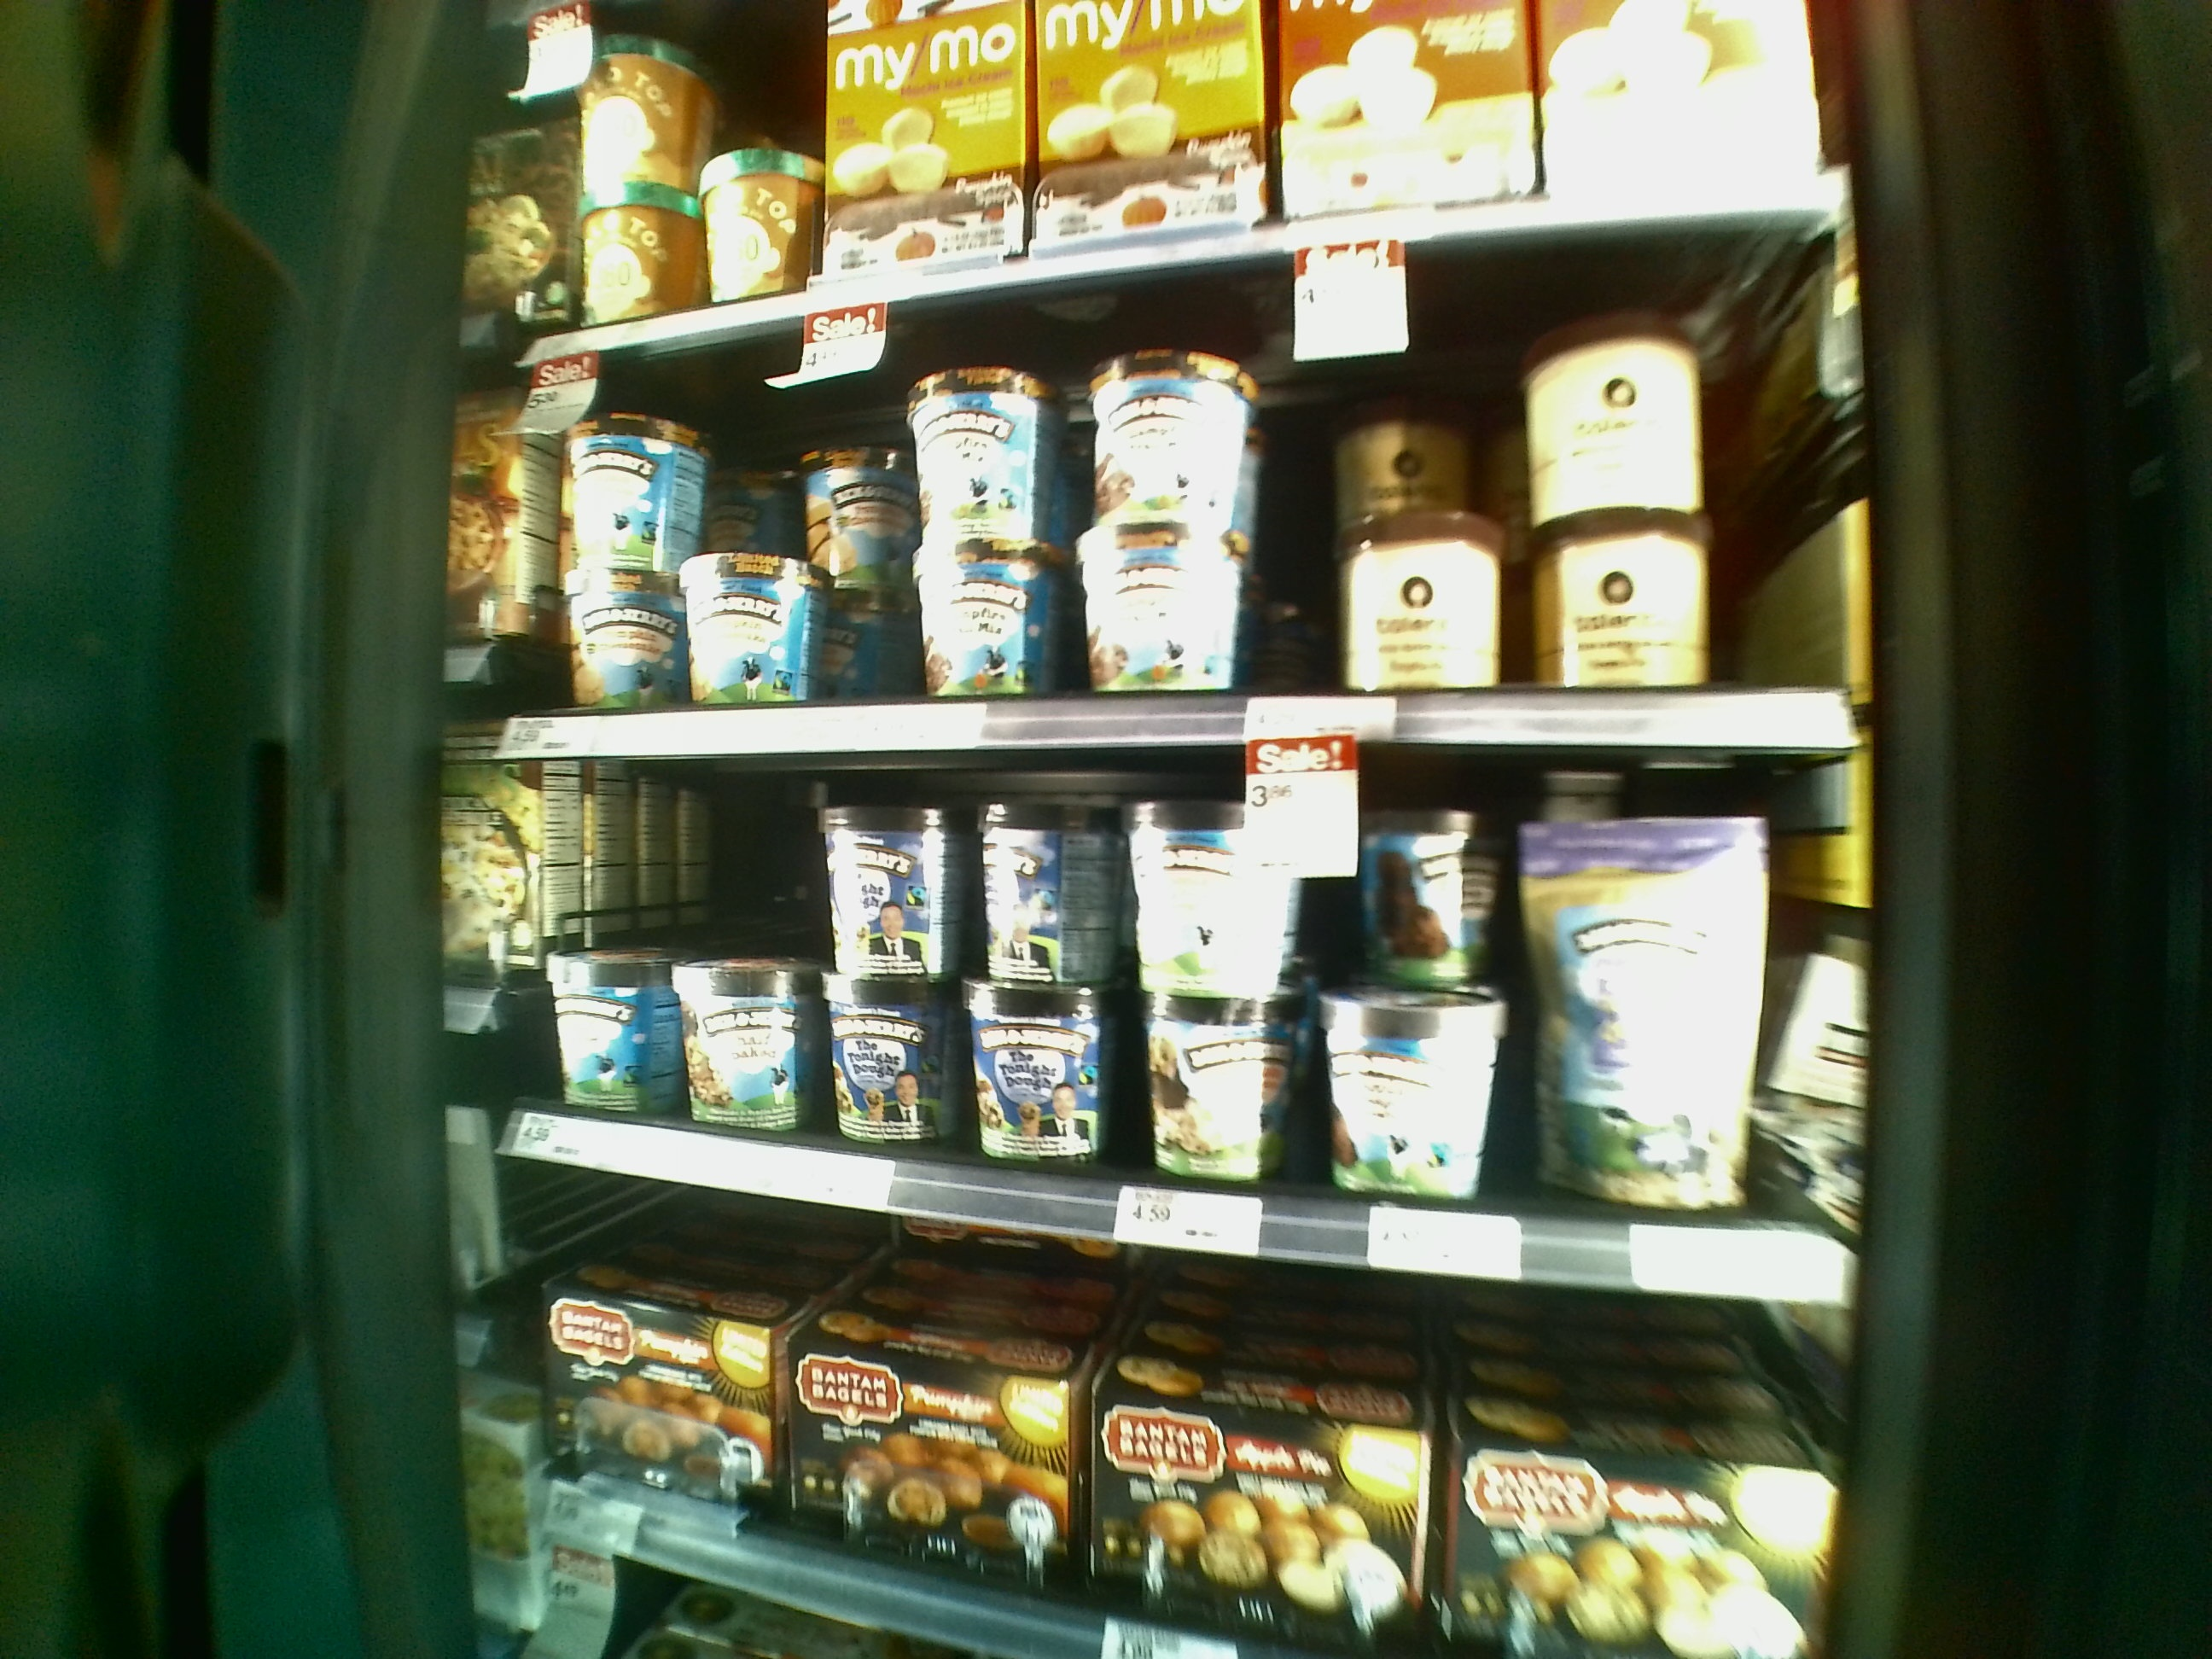shelf: (503, 730, 1881, 1300), (488, 315, 1881, 737)
